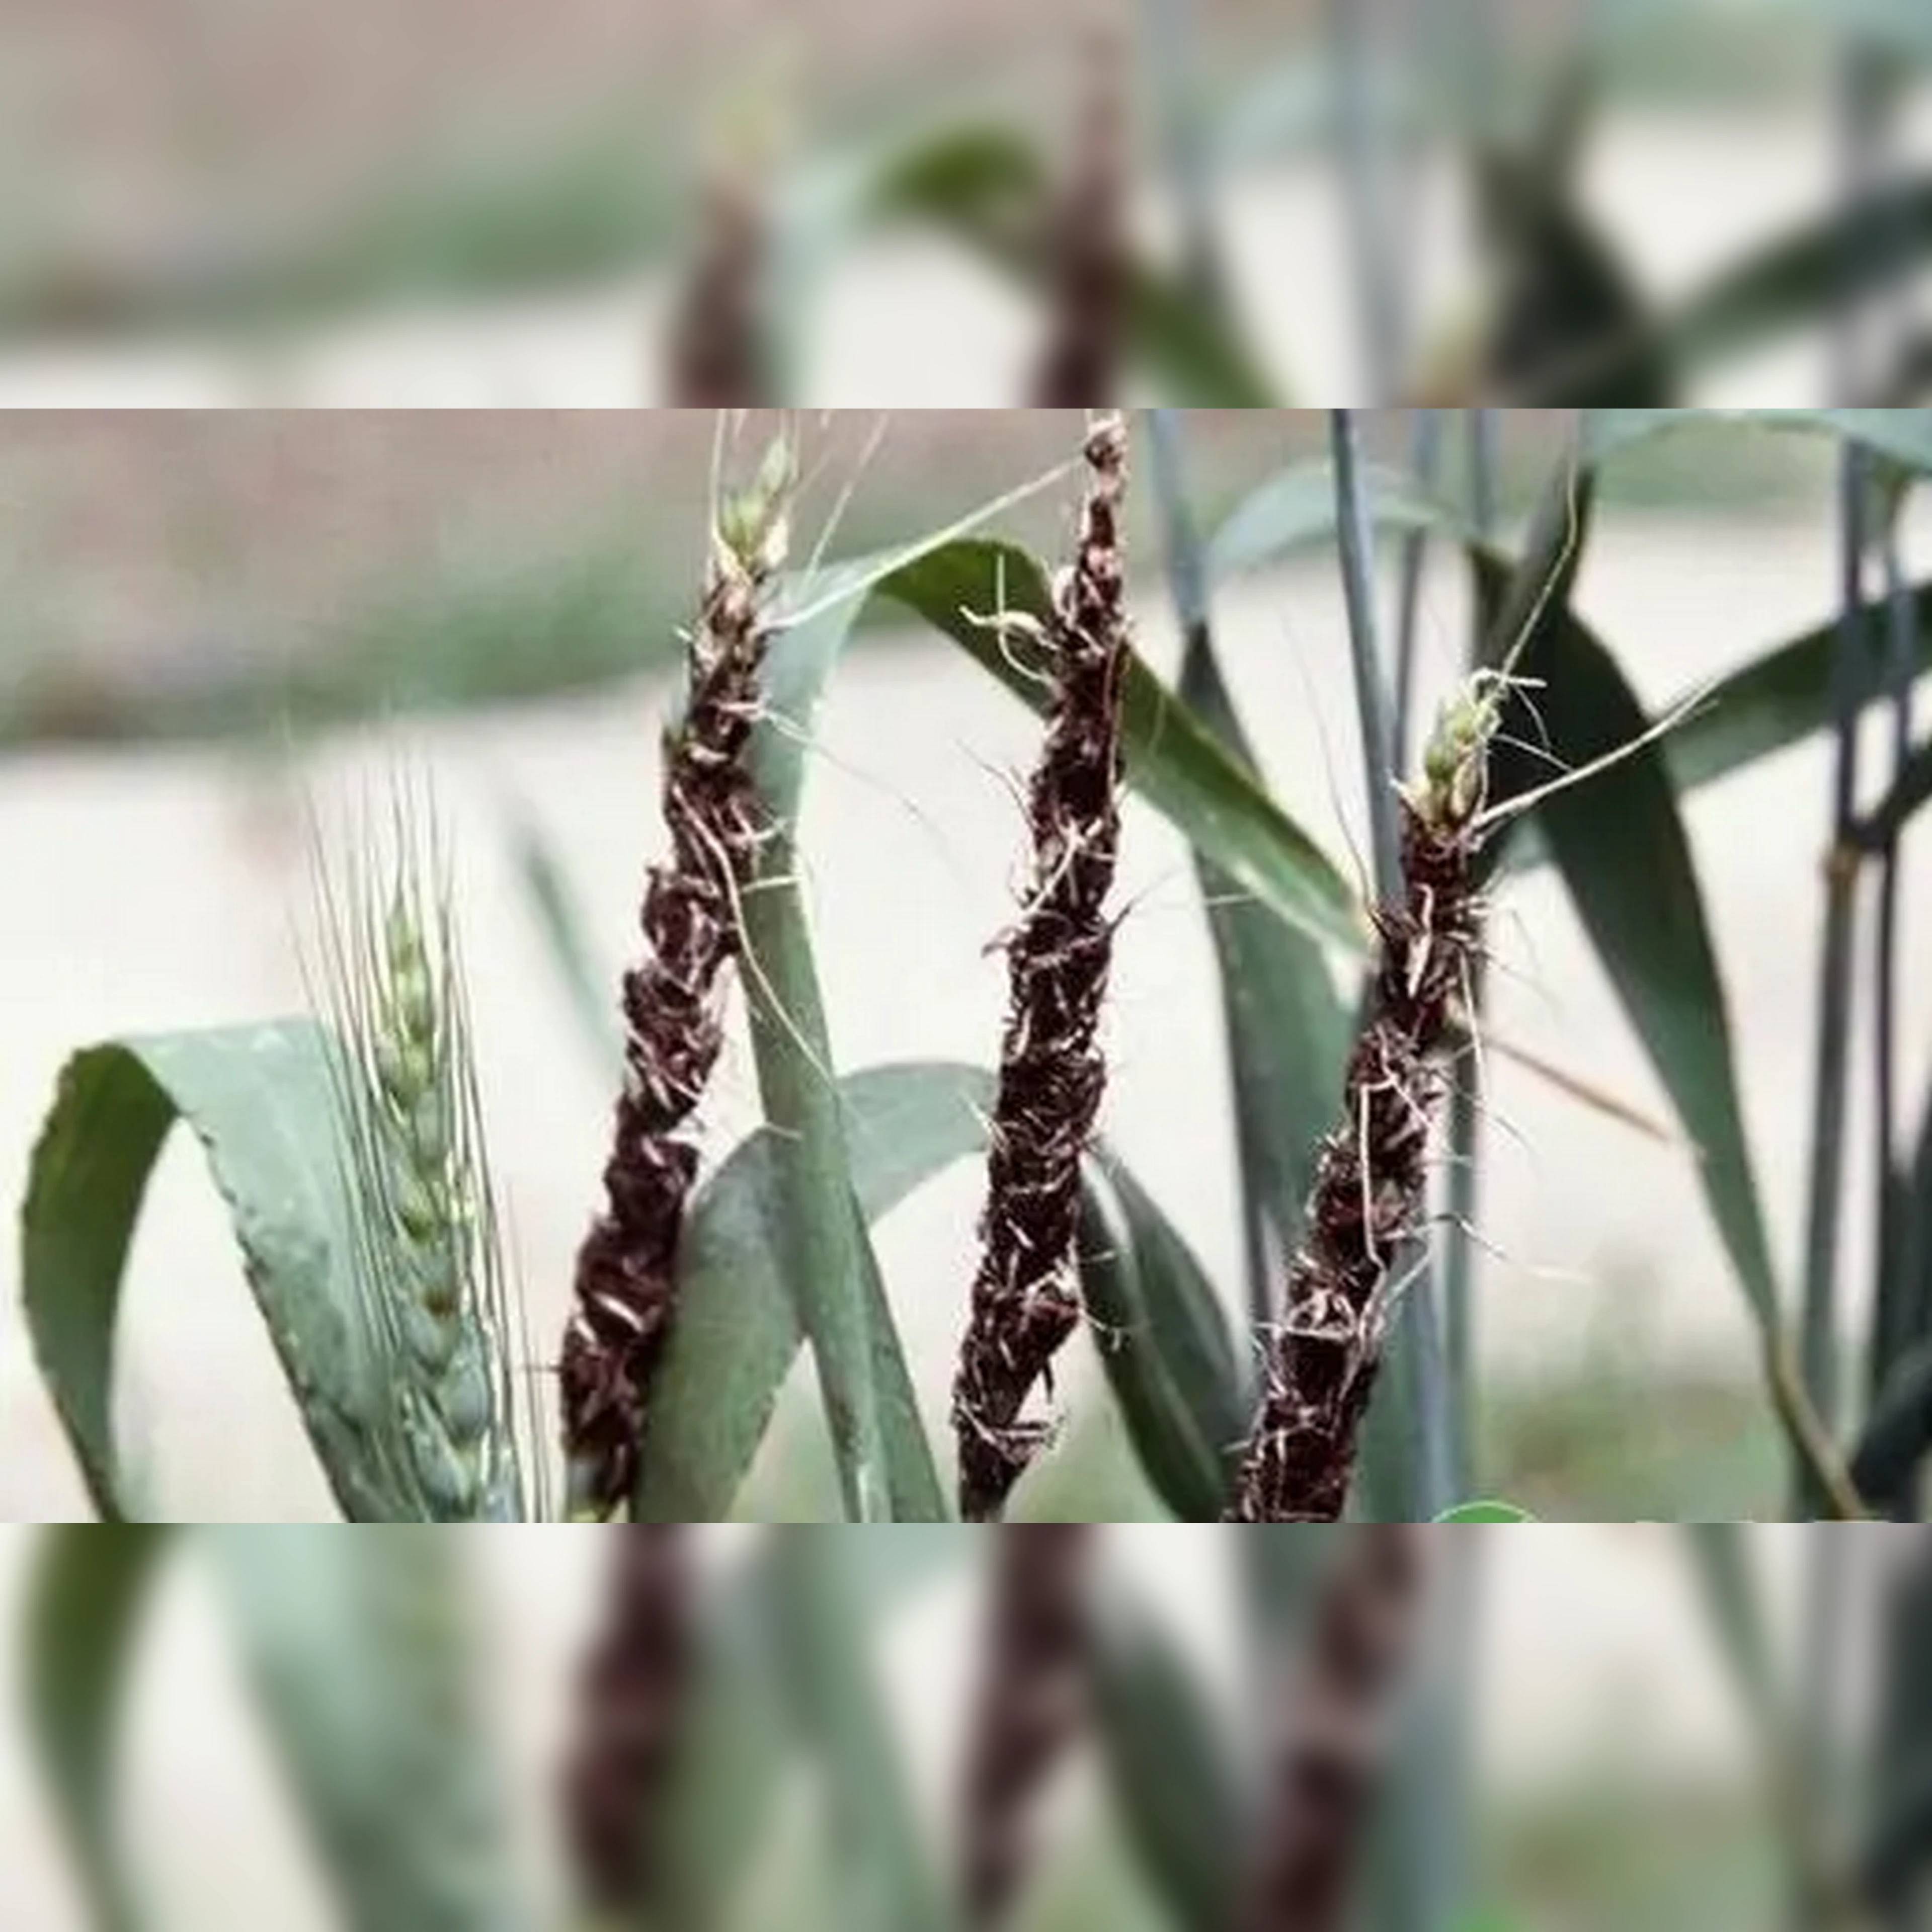Wheat Loose Smut: (554, 522, 1530, 1493)
